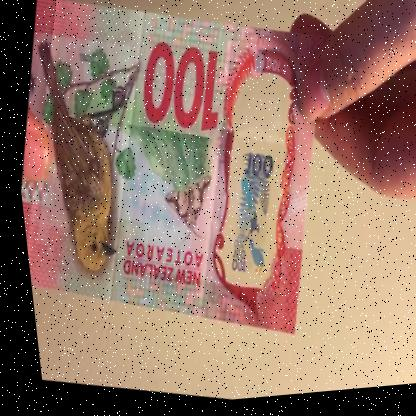100B: (206, 112, 292, 288)
